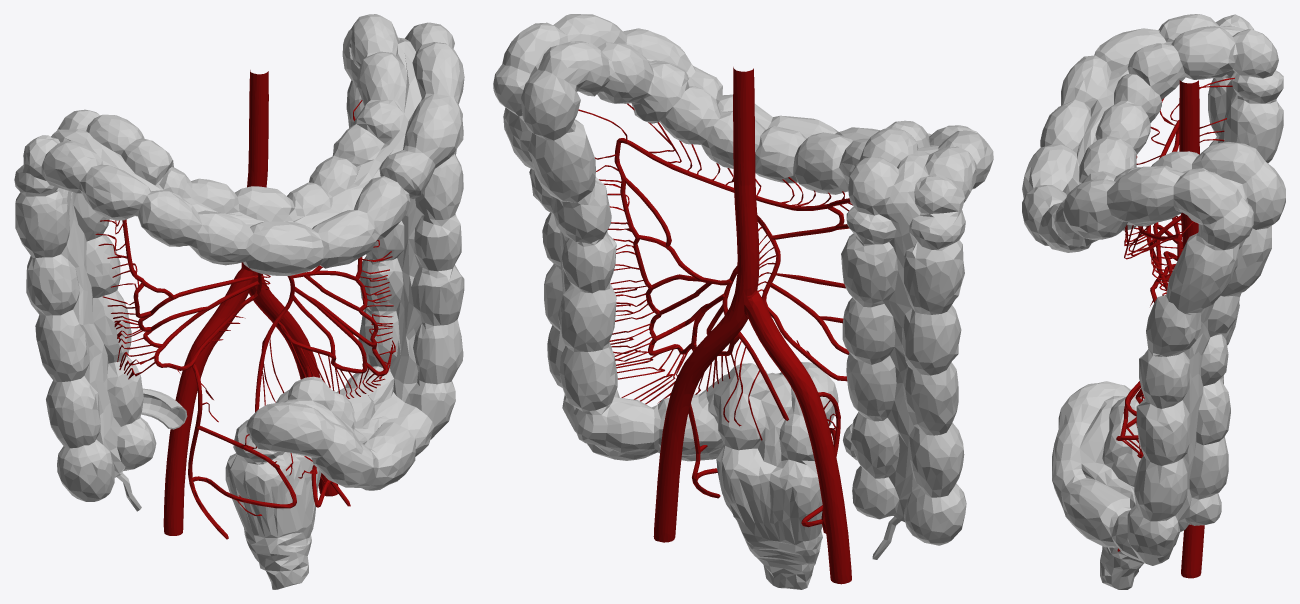
The model's file is colon.gltf.
3 views of the same model, side by side, from view 1: azimuth 30°, elevation 25°; view 2: azimuth 150°, elevation 25°; view 3: azimuth 270°, elevation 25° (orthographic). The views are drawn at different scales.
Size of the model in its own units: 444 by 496 by 230.
